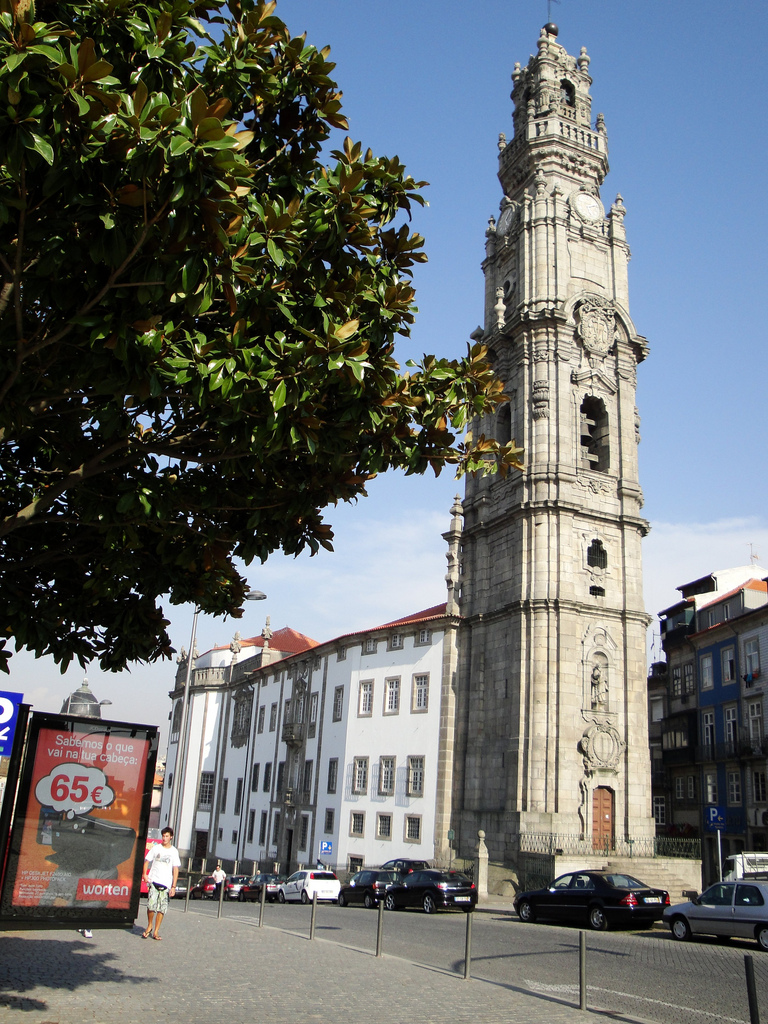clerigos: (442, 0, 659, 858)
